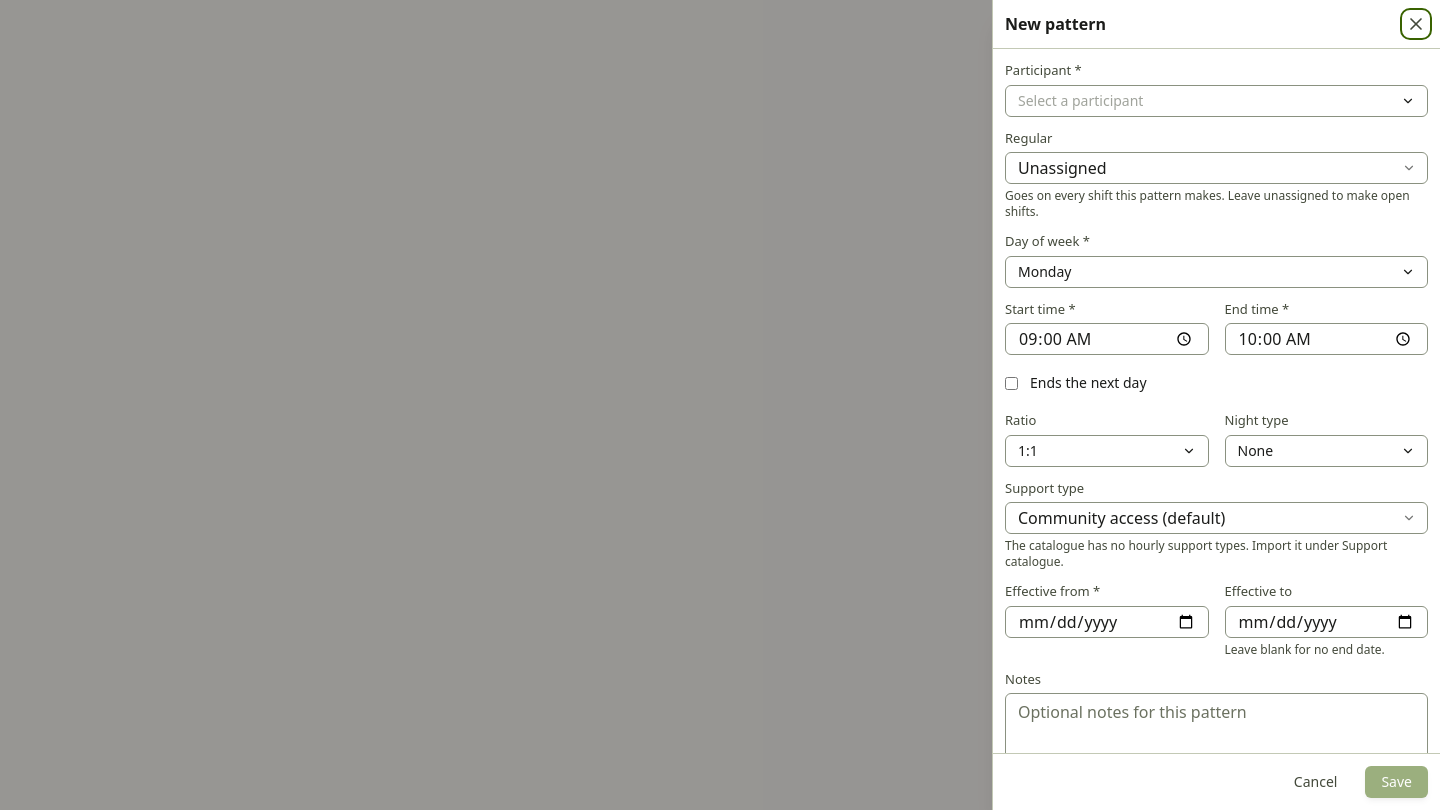
Test: PatternSlideOver — the server's refusal reaches the user › create: shows the server's own message and sent the full body
The width and height of the screenshot is (1440, 810).
Click the button labelled "Select a participant": click(1081, 100) [1005, 84, 1428, 116]
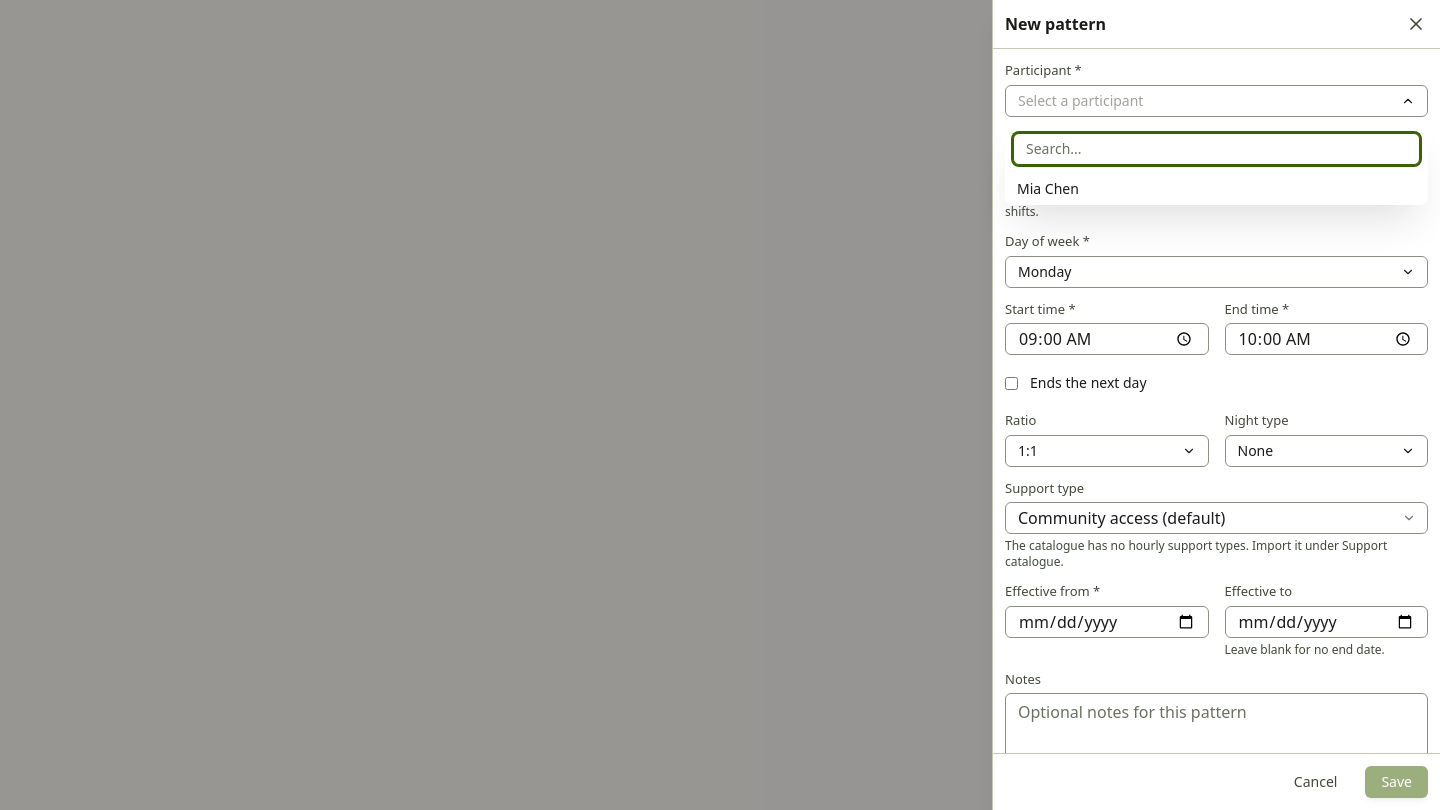
Click the option "Mia Chen": click(1048, 188) [1017, 178, 1079, 198]
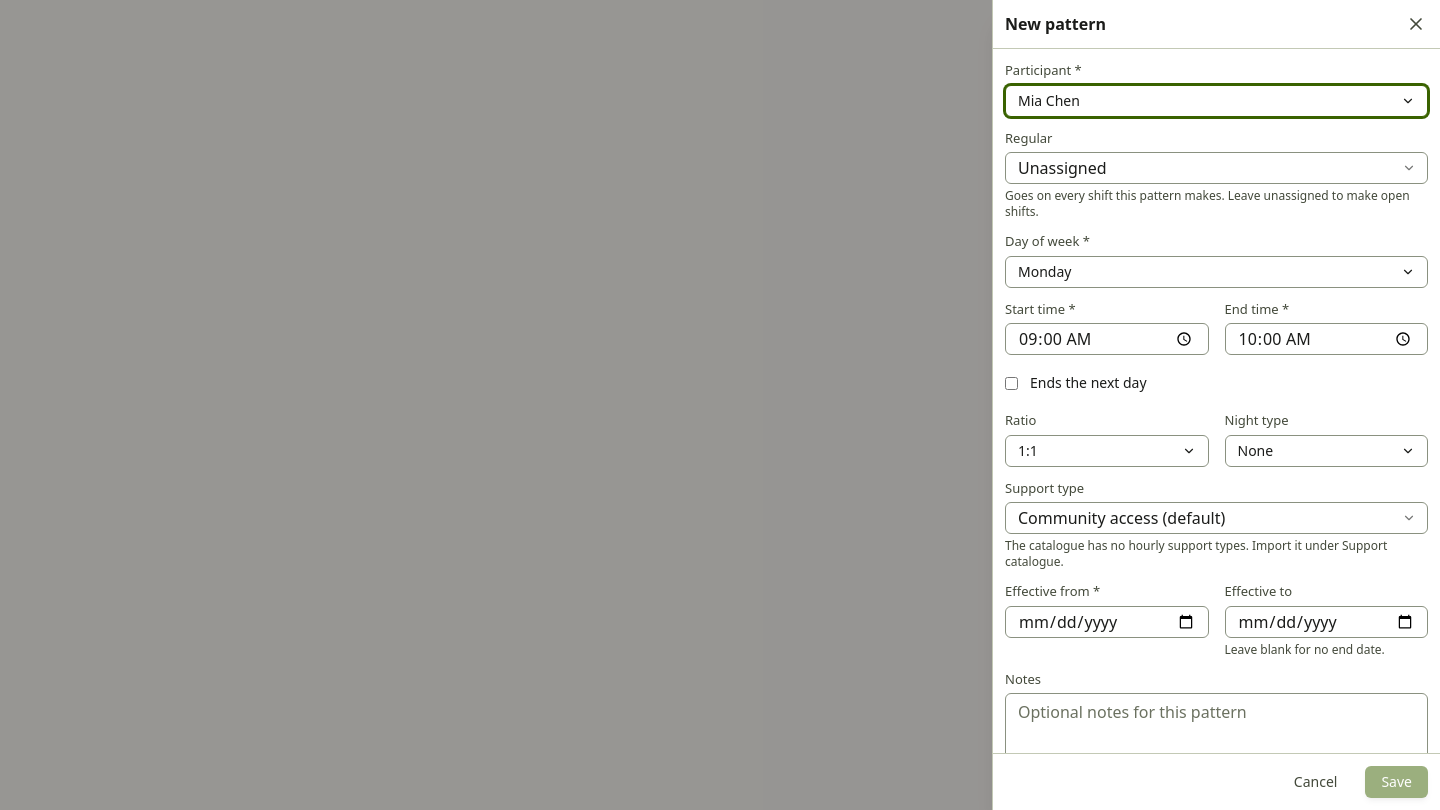
In the date field labelled "Effective from *": (1107, 622) [1005, 606, 1208, 638], type "2026-10-05"
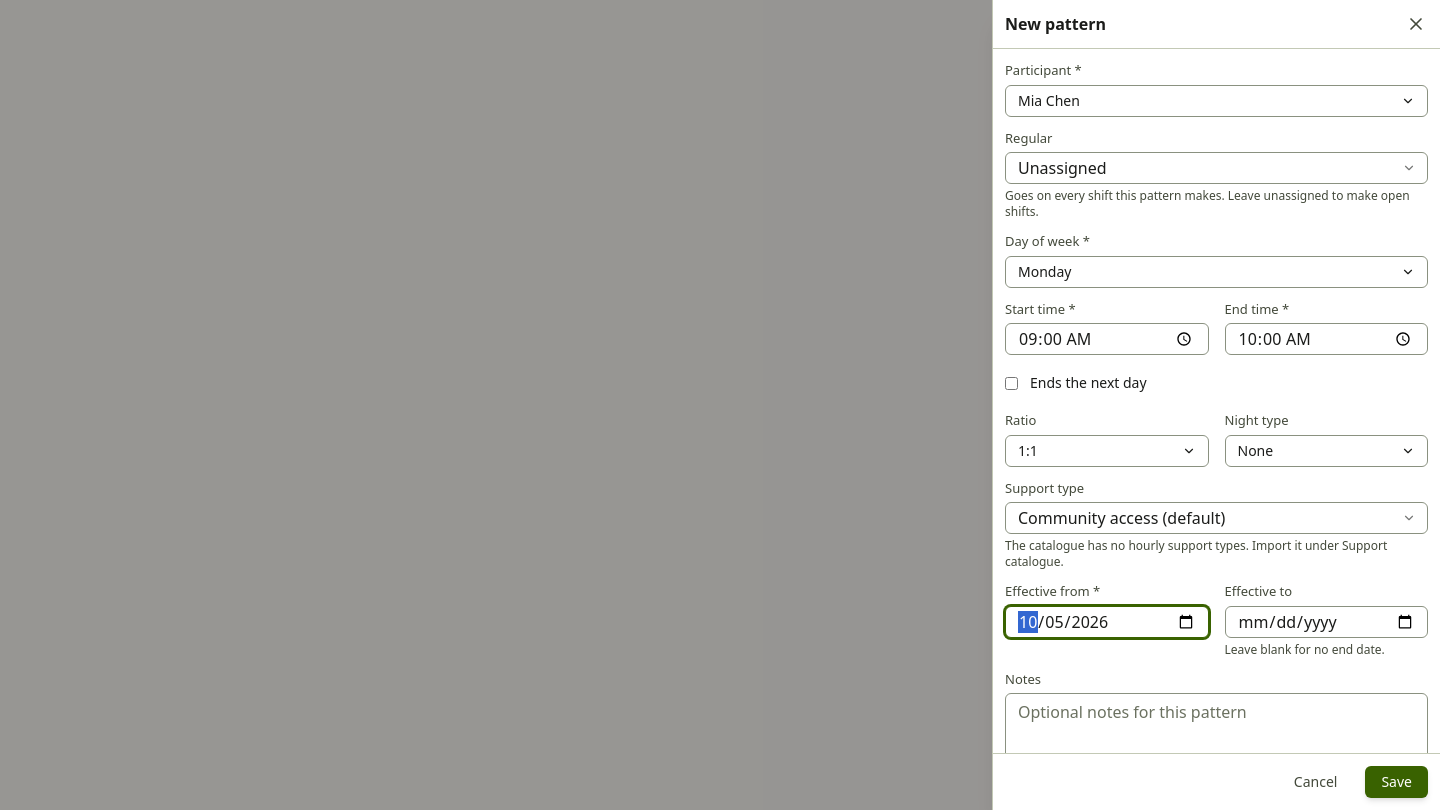
Click the button "Save": click(1397, 782) [1365, 766, 1428, 798]
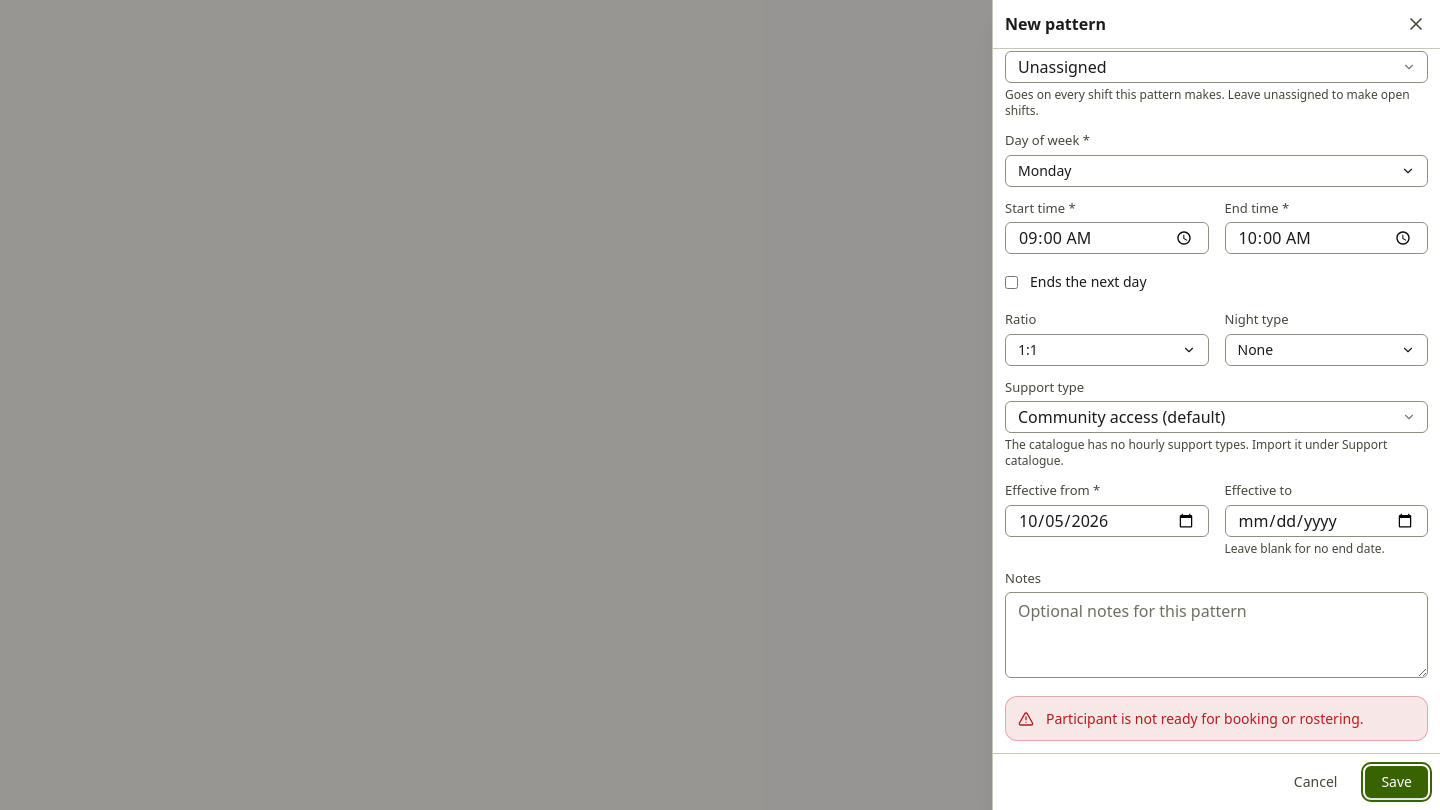
Result: the text "Participant is not ready for booking or rostering." is shown at [1046, 709, 1415, 728]
